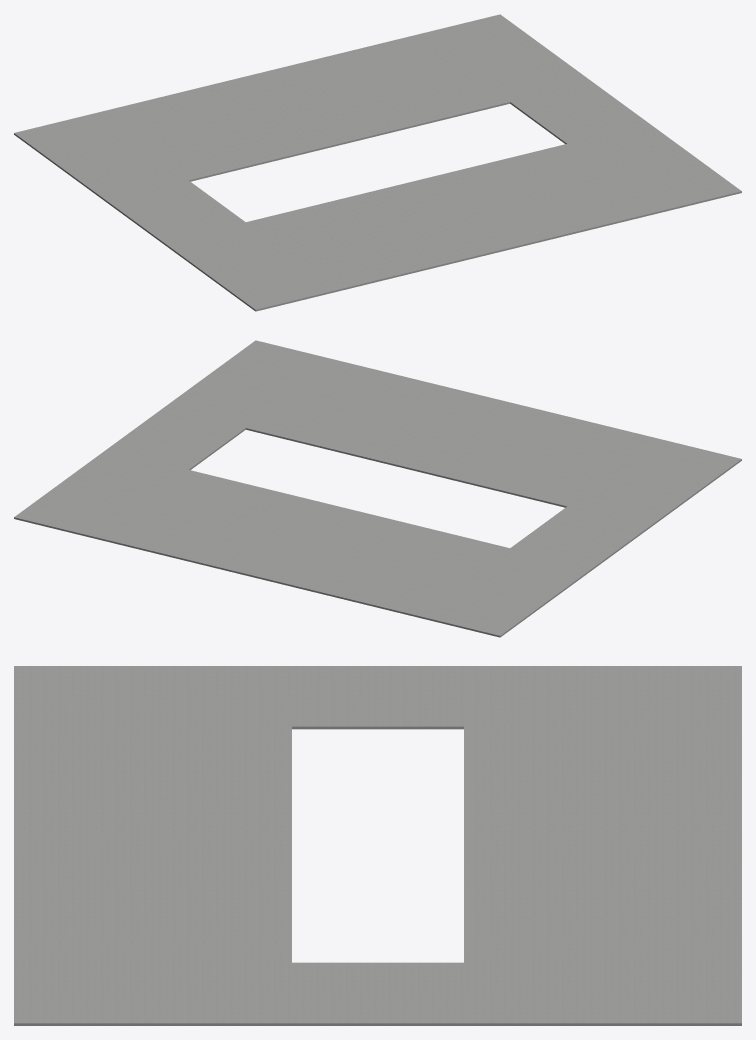
File: floor.dae
3 views of the same model, one above another, from view 1: azimuth 30°, elevation 25°; view 2: azimuth 150°, elevation 25°; view 3: azimuth 270°, elevation 25° (orthographic). The views are drawn at different scales.
Parts seen in each view (by area): view 1: floor; view 2: floor; view 3: floor.
Part boxes in pixels (bbox=[...]): floor: bbox=[14, 14, 741, 311]; floor: bbox=[14, 340, 741, 637]; floor: bbox=[14, 666, 741, 1025].
Size of the model in its own units: 59 by 50.8 by 0.2.
Materials: 1 (1 with a texture image).
